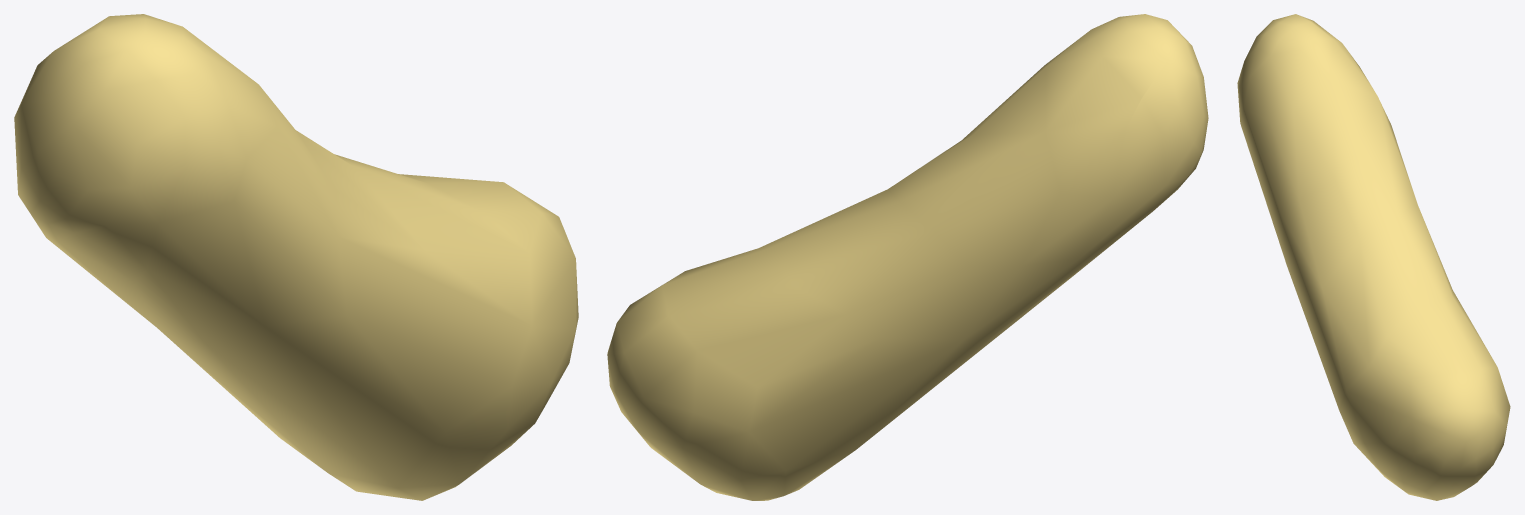
The model's file is fma73463_fj1809.glb.
The picture shows the model from 3 angles, left to right: view 1: azimuth 30°, elevation 25°; view 2: azimuth 150°, elevation 25°; view 3: azimuth 270°, elevation 25°; orthographic projection. The views are drawn at different scales.
Visible parts, largest first — view 1: FMA73463_FJ1809; view 2: FMA73463_FJ1809; view 3: FMA73463_FJ1809.
Boxes of the visible parts, x1,y1,x2,y2 form: FMA73463_FJ1809: [14, 14, 578, 500]; FMA73463_FJ1809: [607, 14, 1208, 500]; FMA73463_FJ1809: [1237, 14, 1510, 500].
Bounding box in the file's own units: 0.0118 × 0.0111 × 0.00754.
